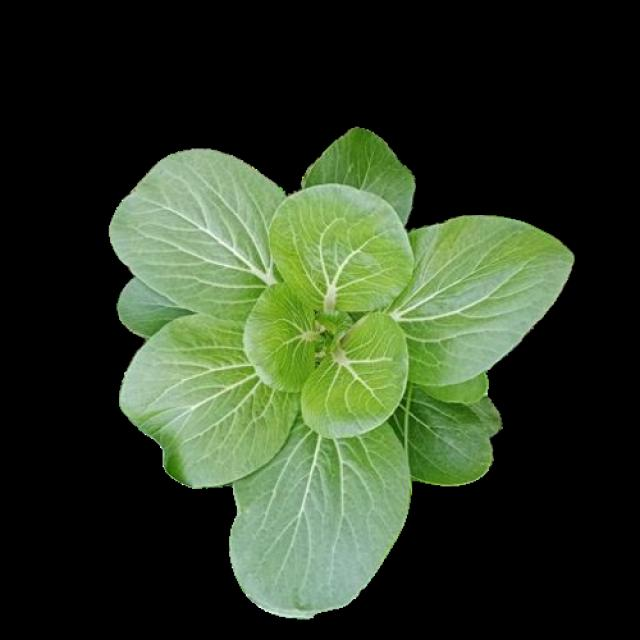healthy: (120, 142, 584, 617)
not-mature: (111, 130, 575, 606)
